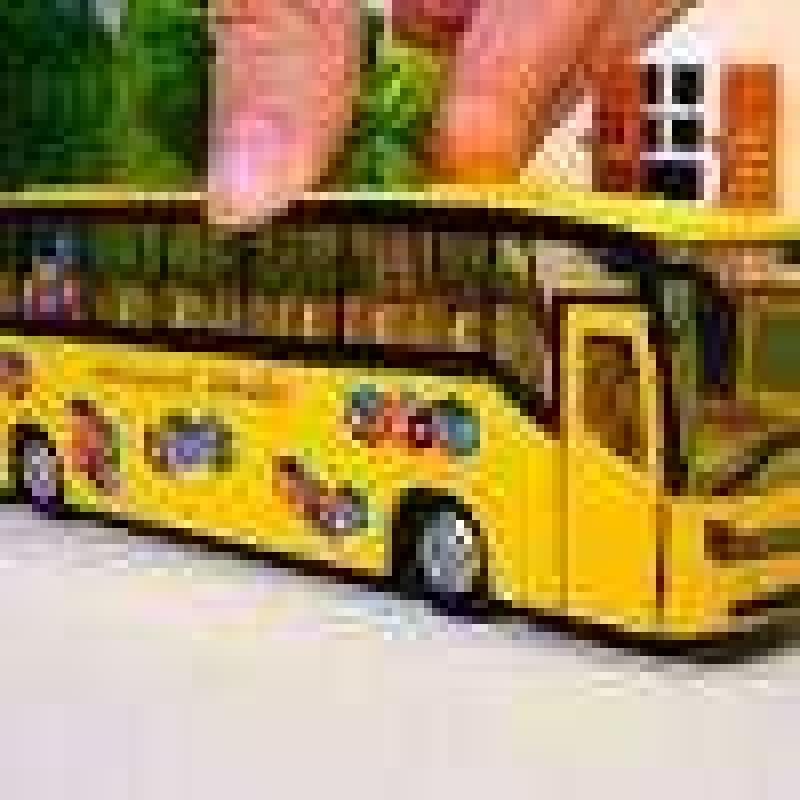bus: (0, 162, 800, 662)
